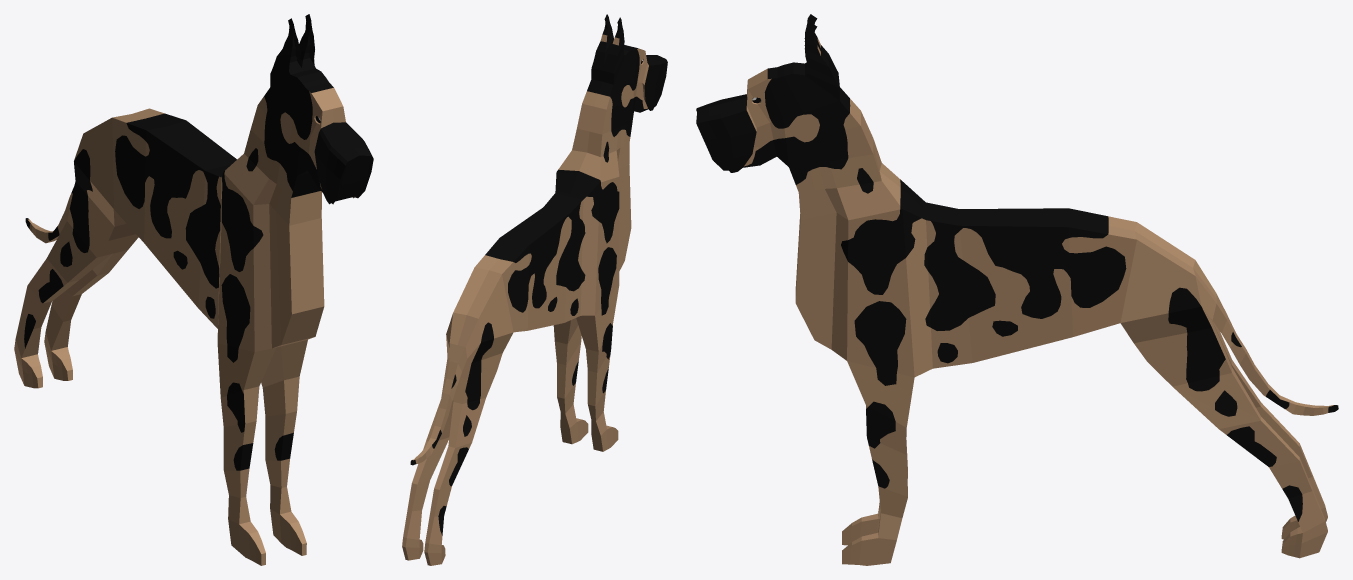
File: great_dane.obj
The picture shows the model from 3 angles, left to right: view 1: azimuth 30°, elevation 25°; view 2: azimuth 150°, elevation 25°; view 3: azimuth 270°, elevation 25°; orthographic projection. The views are drawn at different scales.
Visible parts, largest first — view 1: Cube; view 2: Cube; view 3: Cube.
Part boxes in pixels (bbox=[...]): Cube: bbox=[14, 14, 373, 565]; Cube: bbox=[402, 14, 667, 565]; Cube: bbox=[696, 14, 1338, 565].
Bounding box in the file's own units: 0.4259 × 3.81 × 4.14.
